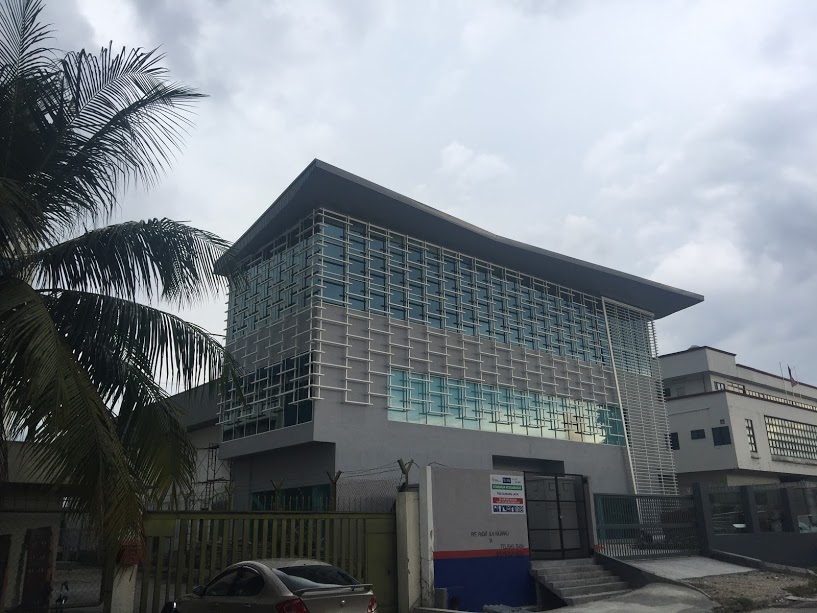Church: (191, 145, 684, 478)
